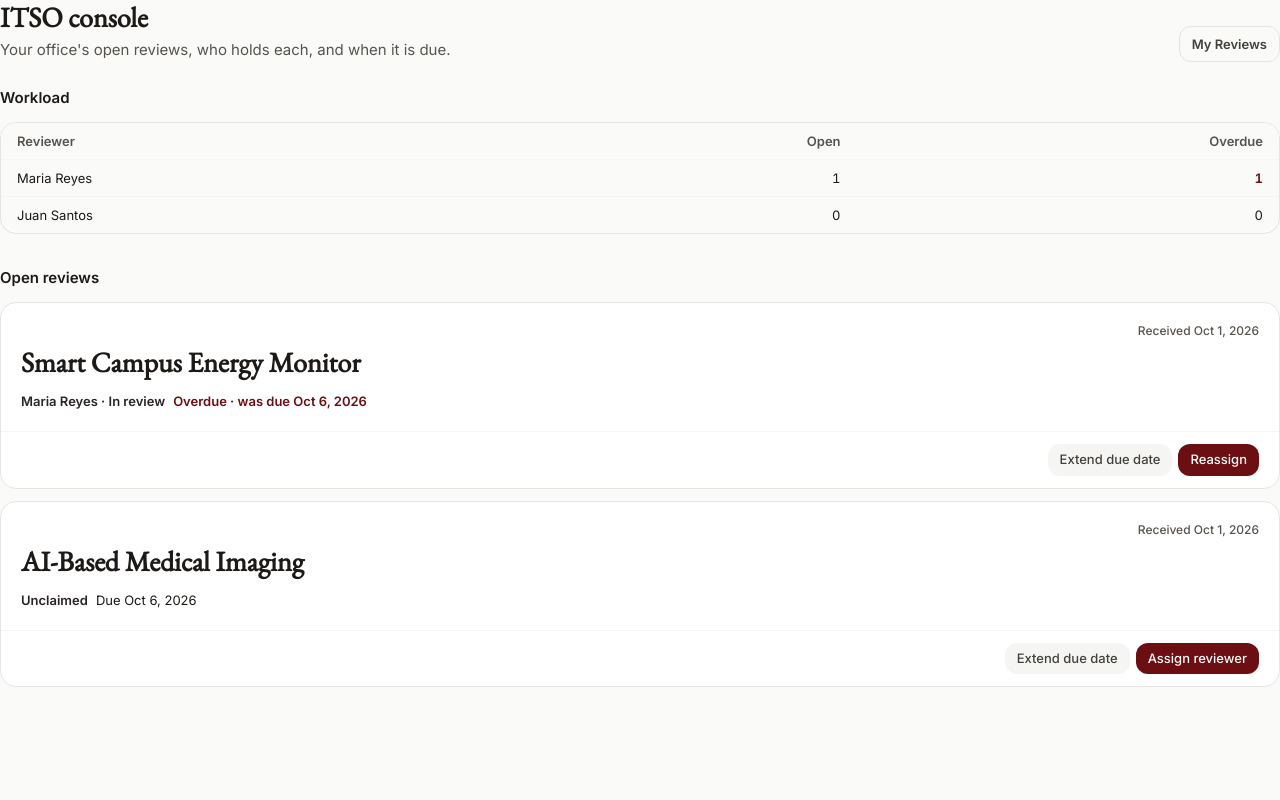
OfficeConsolePage › shows the server's refusal on a failed act, inside its dialog
Click the button with aria-label "Extend due date: Smart Campus Energy Monitor": [1110, 460] box [1048, 444, 1172, 476]
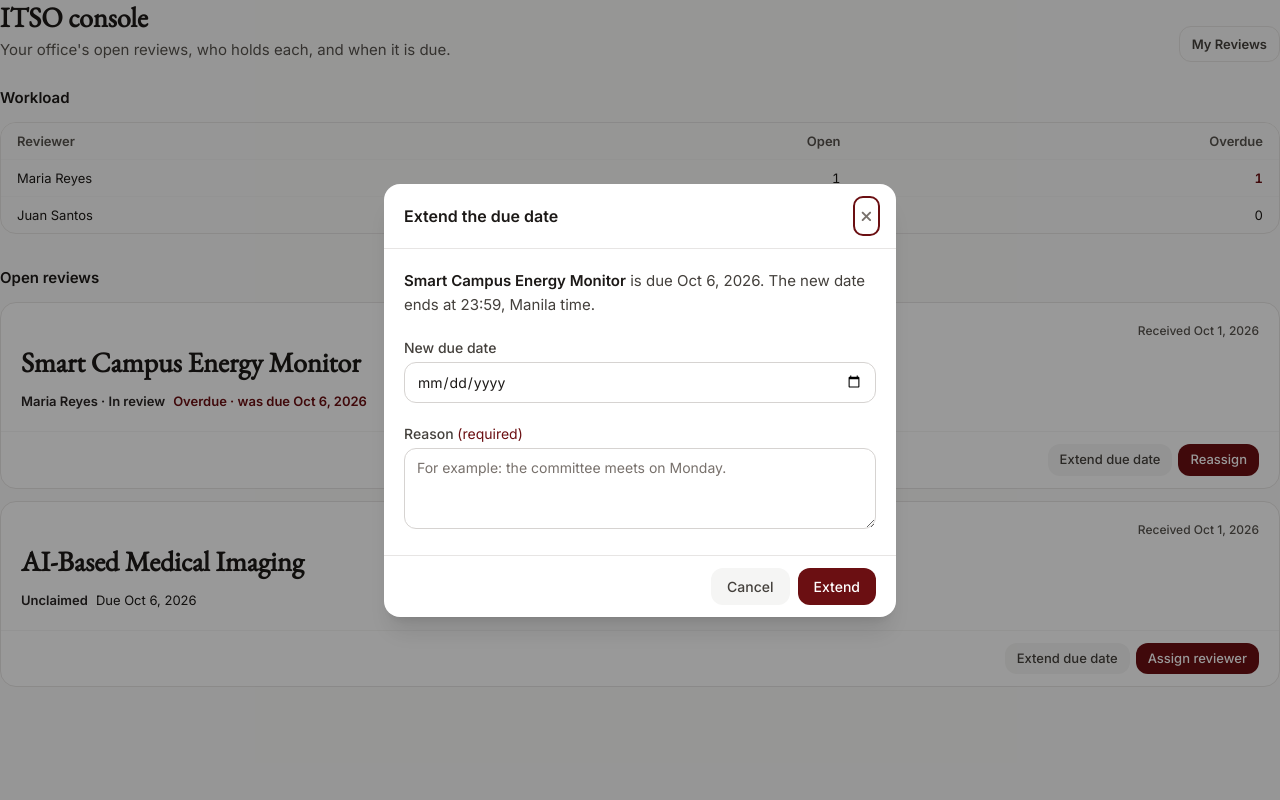
In the date field labelled "New due date": [640, 382] box [404, 362, 876, 402], type "2026-10-12"
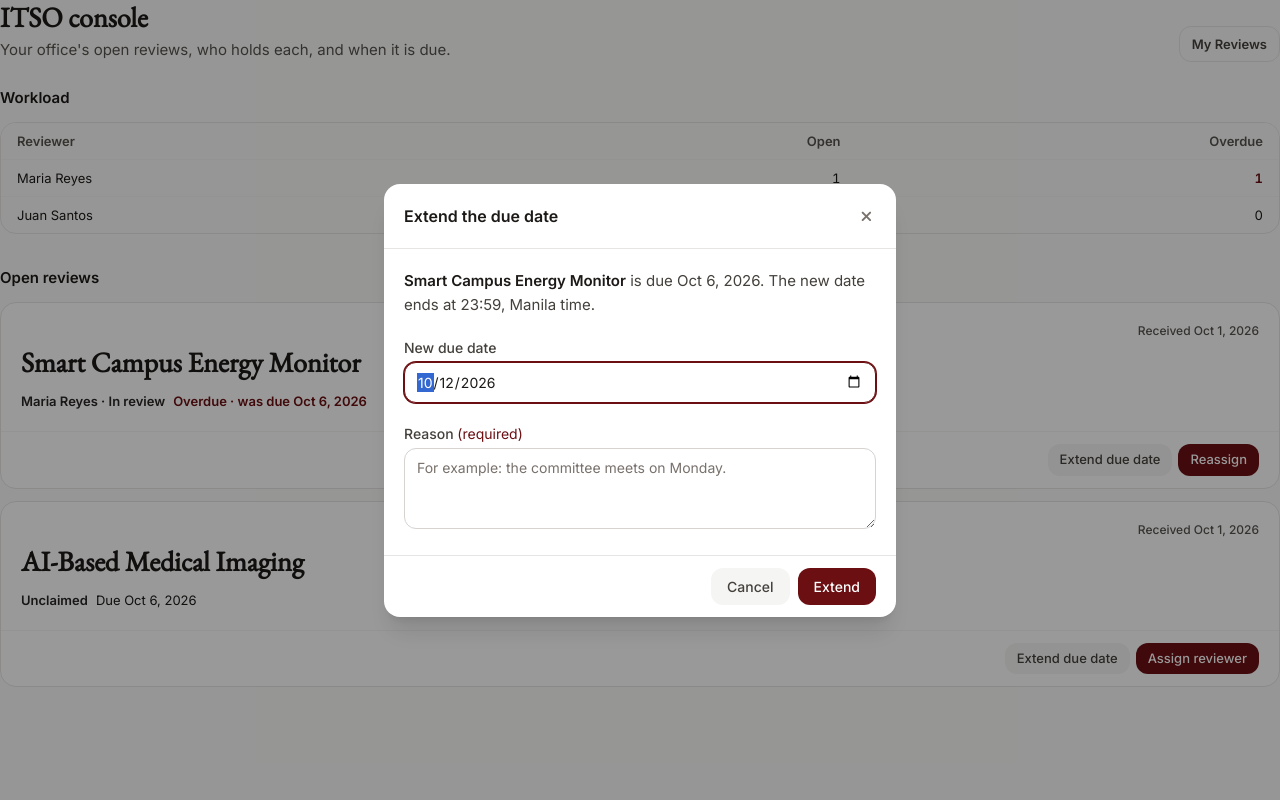
In the text box labelled "Reason (required)": [640, 488] box [404, 448, 876, 528], type "Late committee."
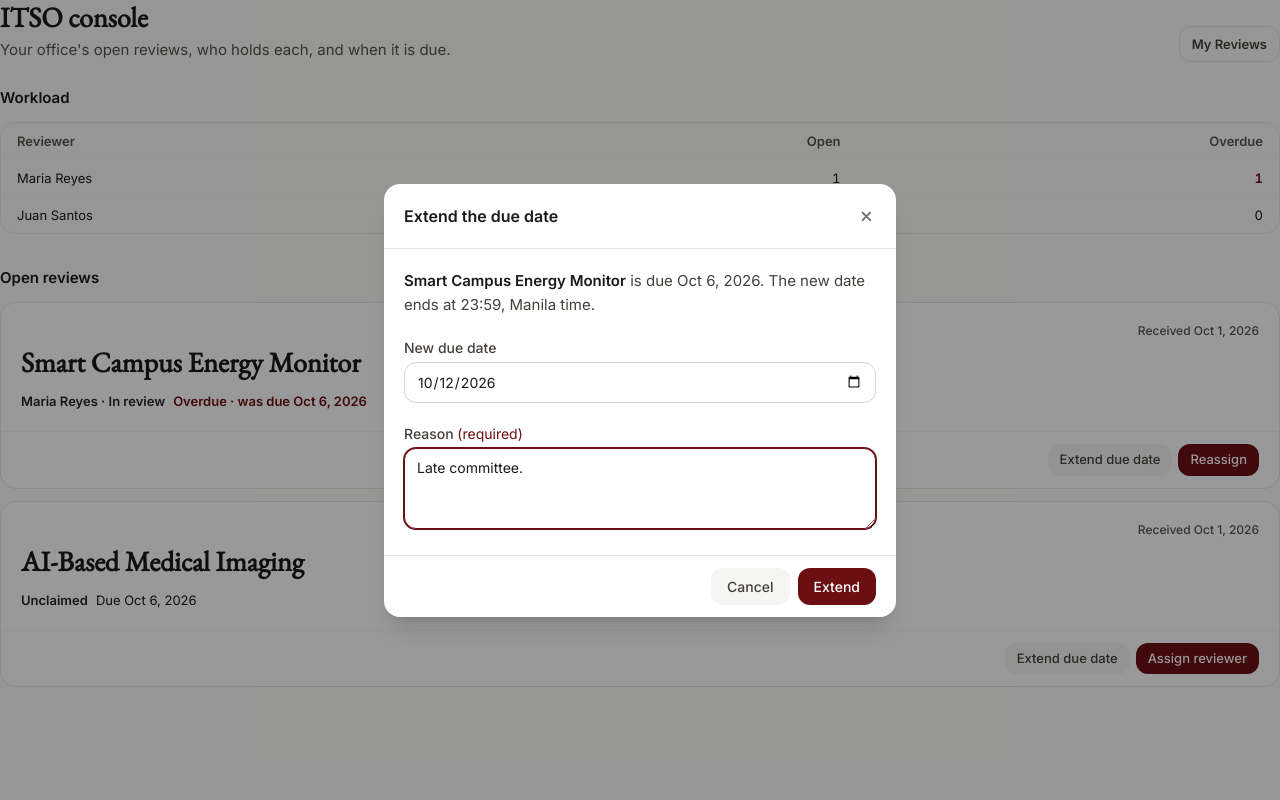
Click the button "Extend": [837, 586] box [798, 568, 876, 604]
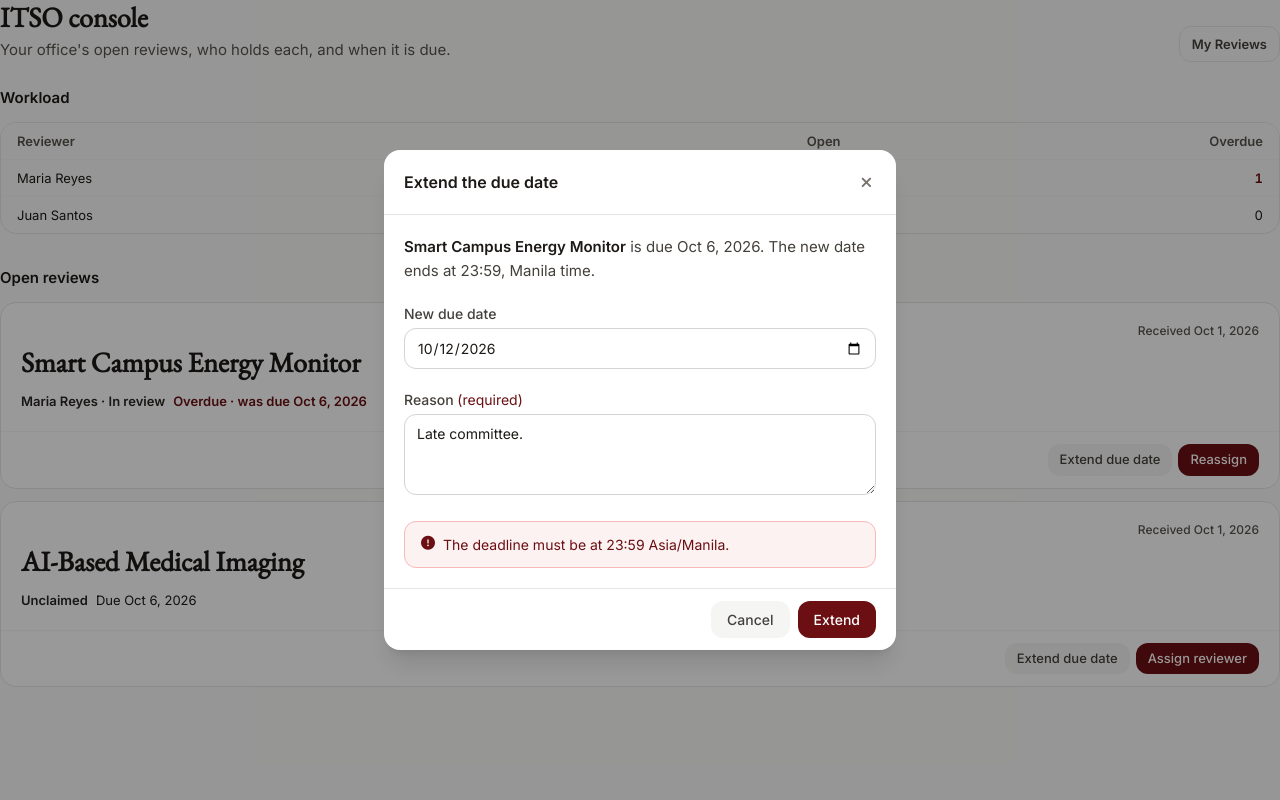
Expected: the message shows "23:59 Asia/Manila", [443, 536, 729, 553]
